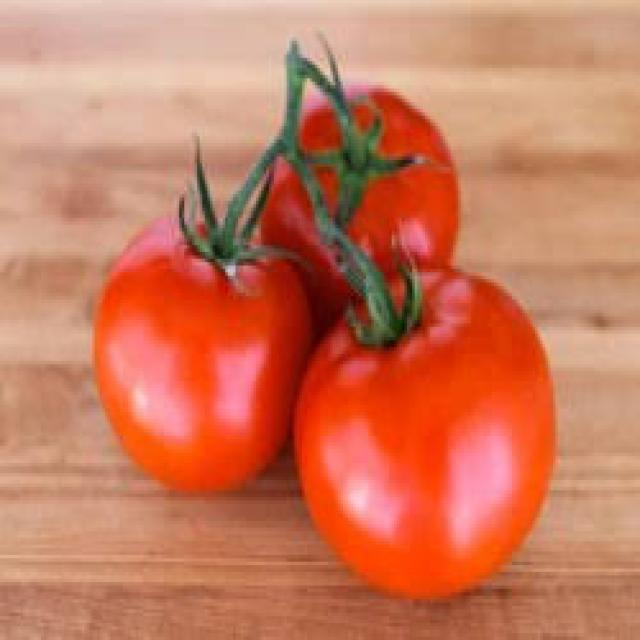Fresh_tomato: (290, 276, 556, 564), (104, 205, 290, 490), (251, 88, 461, 286)
